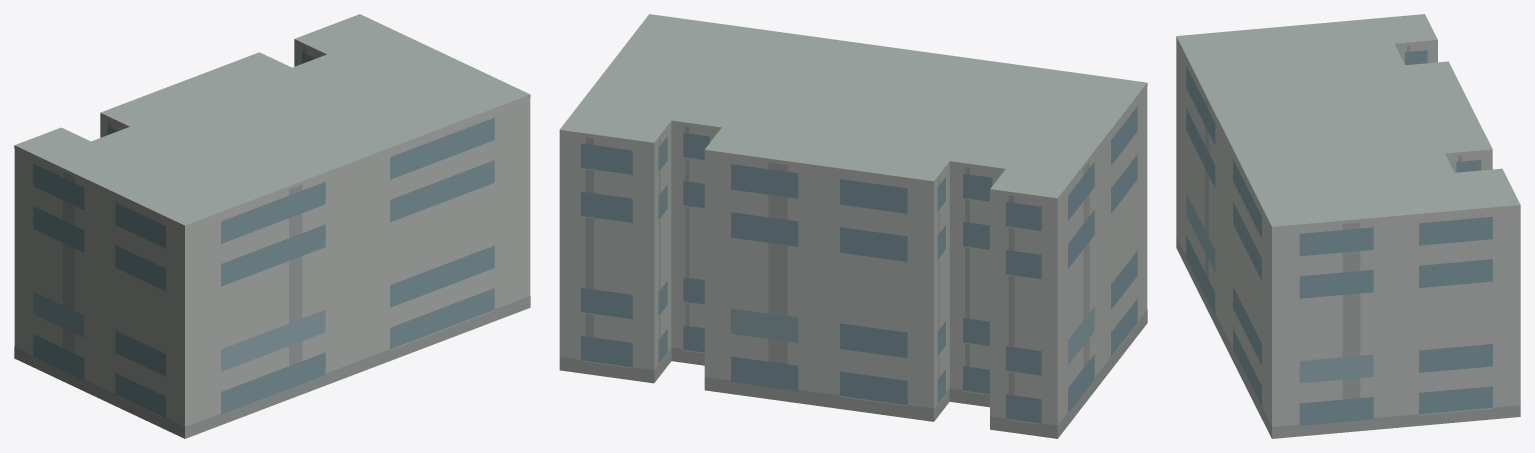
Rendered from survey-upis-32804221.glb.
3 renders of one model, left to right at view 1: azimuth 30°, elevation 25°; view 2: azimuth 150°, elevation 25°; view 3: azimuth 270°, elevation 25°, orthographic. The views are drawn at different scales.
Parts seen in each view (by area): view 1: survey-upis-32804221.tmp; view 2: survey-upis-32804221.tmp; view 3: survey-upis-32804221.tmp.
Part boxes in pixels (bbox=[...]): survey-upis-32804221.tmp: bbox=[14, 14, 530, 438]; survey-upis-32804221.tmp: bbox=[559, 14, 1147, 438]; survey-upis-32804221.tmp: bbox=[1176, 14, 1520, 438].
Bounding box in the file's own units: 33.62 × 15.6 × 22.97.
